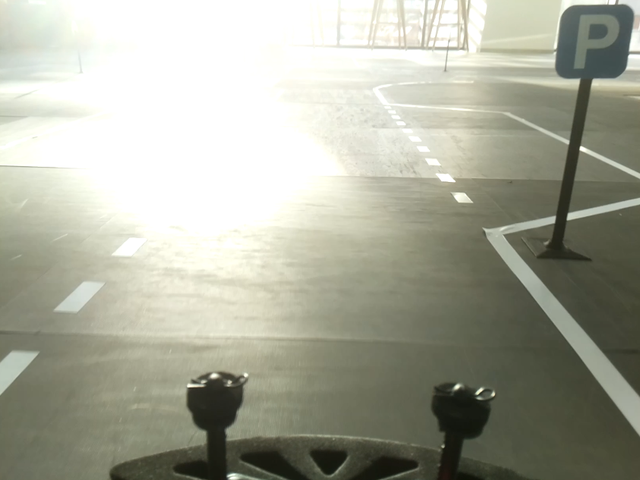parking: (555, 6, 634, 79)
